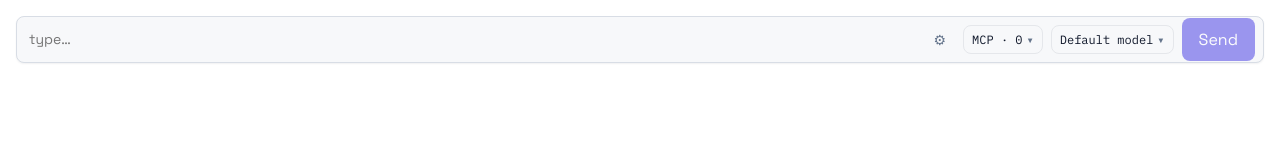
Test: Composer › renders the backend preview for the active draft
The image size is (1280, 160).
In the text box named "Message": x=467, y=40 x1=17 y1=17 x2=916 y2=62, type "Summarize the incident."
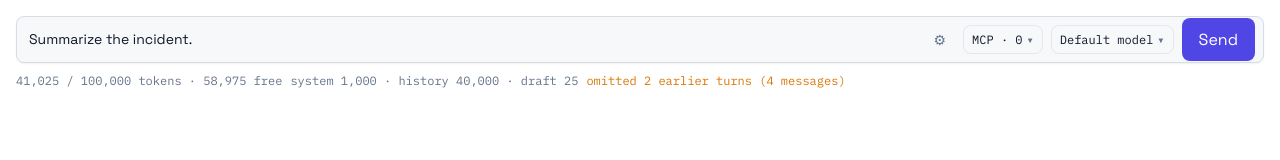
Expected: the element with test id "context-meter" shows "41,025 / 100,000 tokens · 58,975 free", x1=16 y1=73 x2=282 y2=88
Expected: the element with test id "context-meter" shows "system 1,000 · history 40,000 · draft 25", x1=290 y1=73 x2=578 y2=88
Expected: the element with test id "context-meter" shows "omitted 2 earlier turns (4 messages)", x1=586 y1=73 x2=846 y2=88
